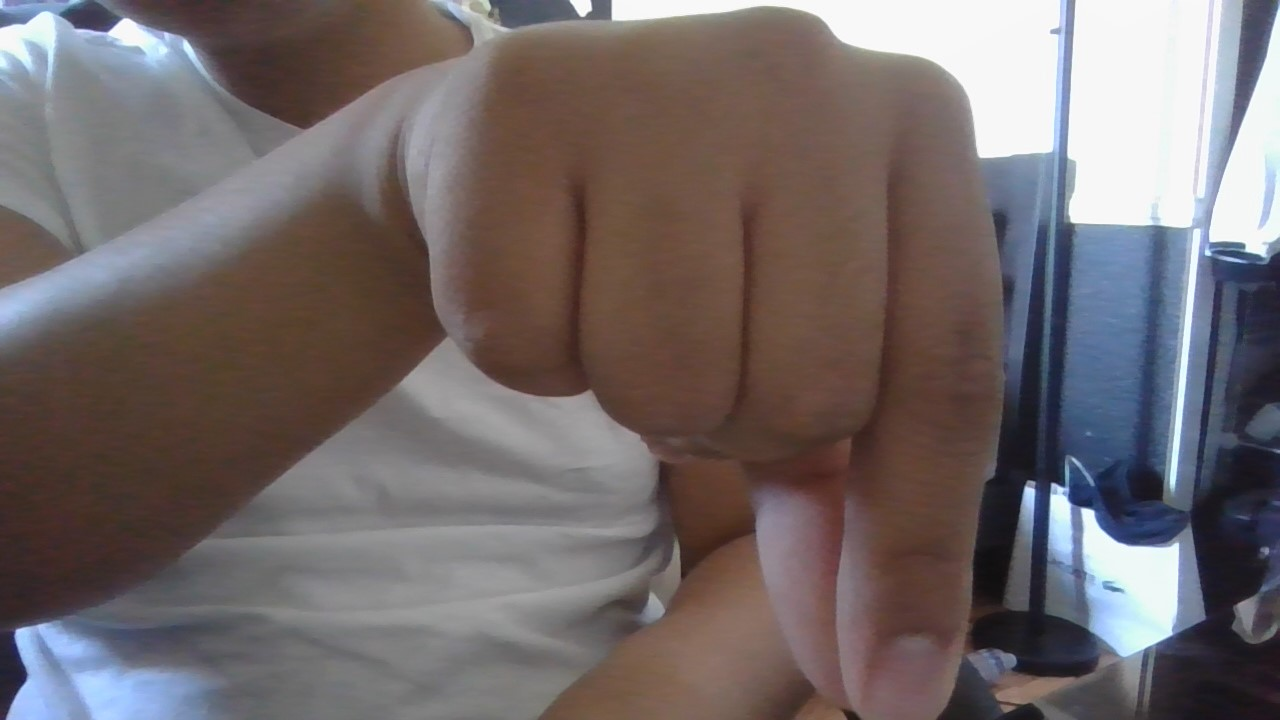q: (393, 11, 1131, 720)
